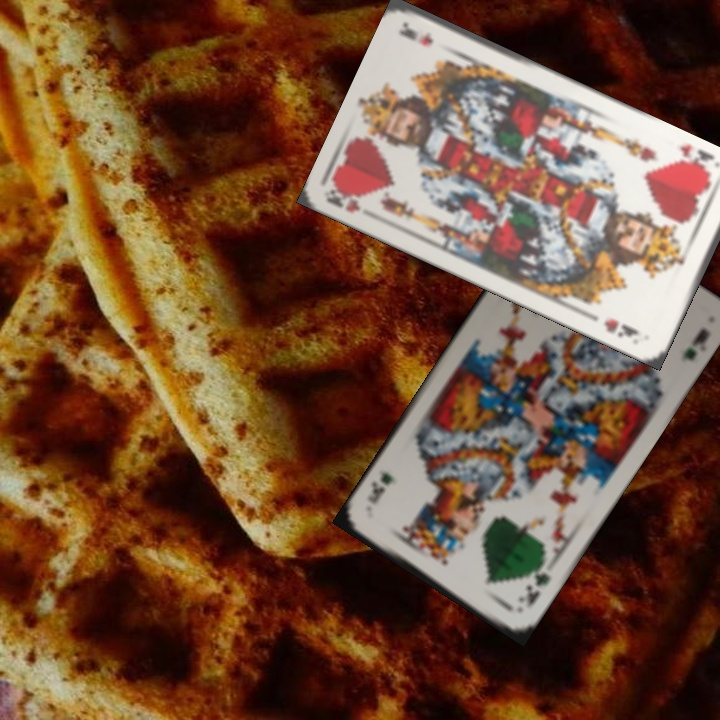GK: (513, 558, 553, 610)
HK: (671, 140, 717, 180), (324, 182, 364, 216)
